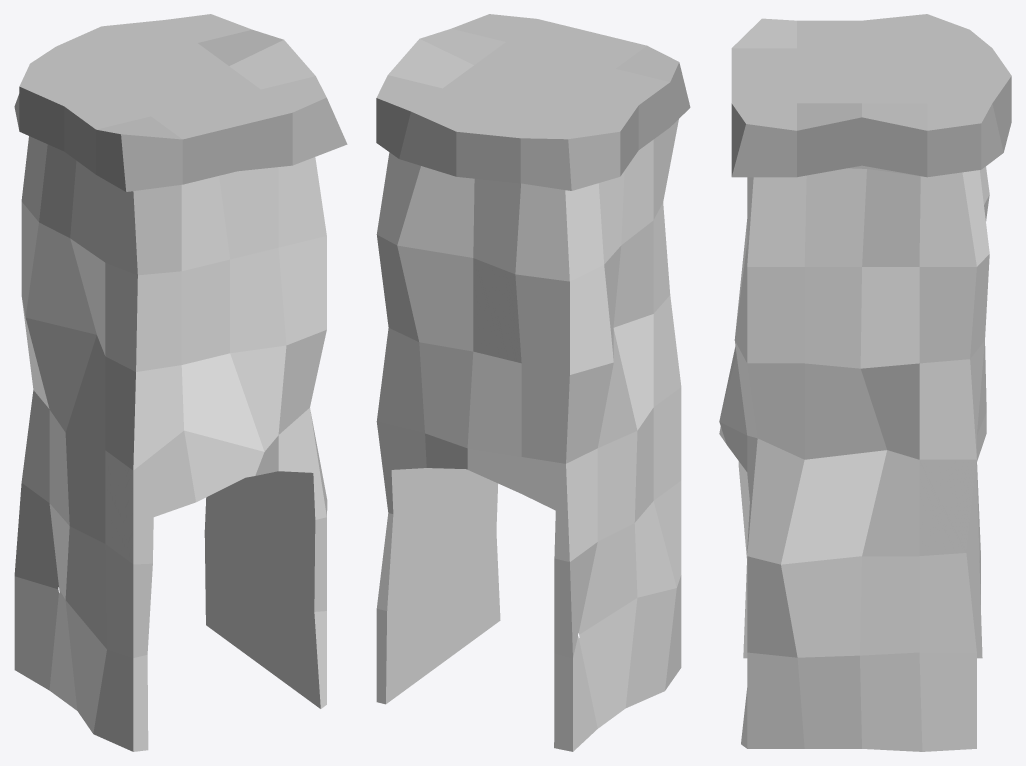
Rendered from SnowColumnTunnel.fbx.
3 views of the same model, side by side, from view 1: azimuth 30°, elevation 25°; view 2: azimuth 150°, elevation 25°; view 3: azimuth 270°, elevation 25° (orthographic). The views are drawn at different scales.
Parts seen in each view (by area): view 1: Cube.040; view 2: Cube.040; view 3: Cube.040.
Boxes of the visible parts, box(x1,y1,x2,y2) form: Cube.040: box(14, 14, 347, 751); Cube.040: box(376, 14, 690, 751); Cube.040: box(719, 14, 1011, 751).
Bounding box in the file's own units: 245 × 613 × 255.
